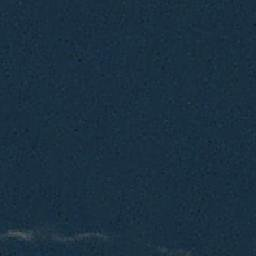debris: (51, 233, 106, 241), (3, 231, 33, 240)
